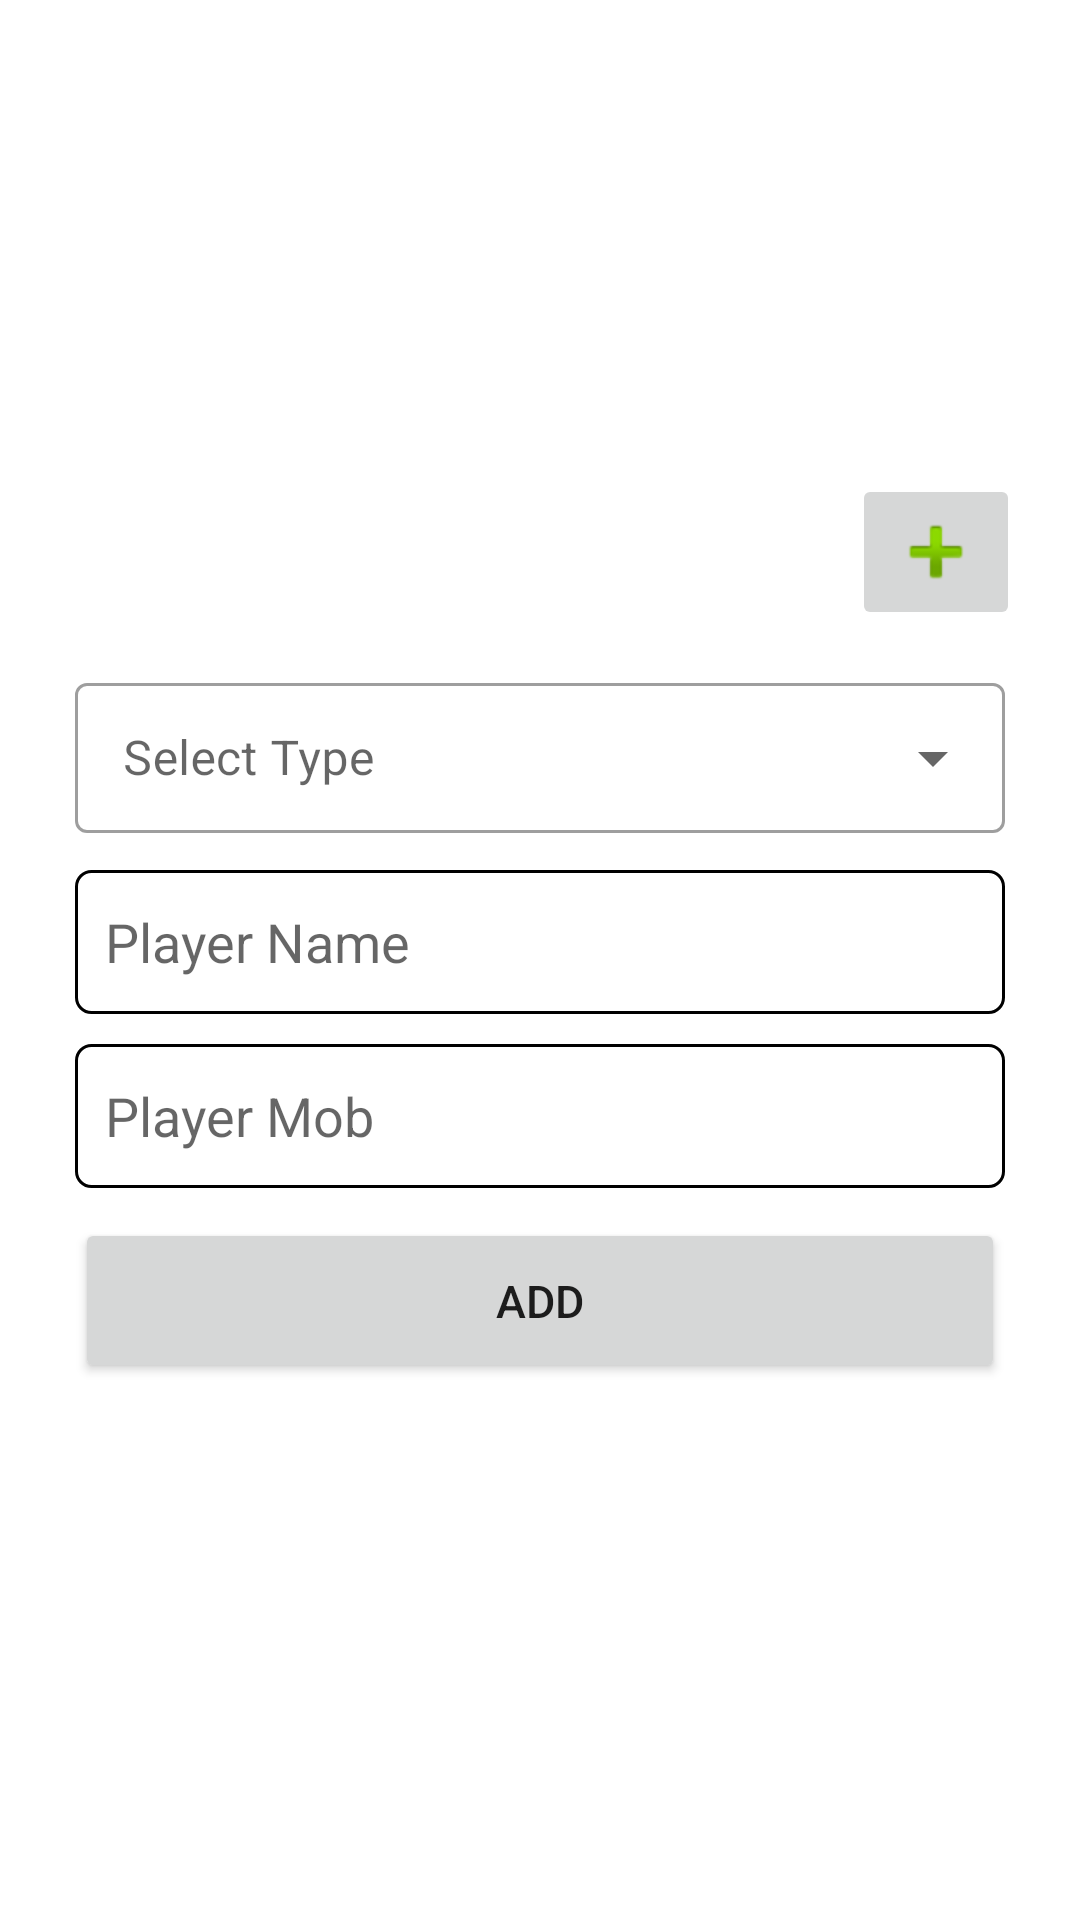

Icon click points for this 1080×1920 phone screenshot, format [x,y]:
add: [936,552]
